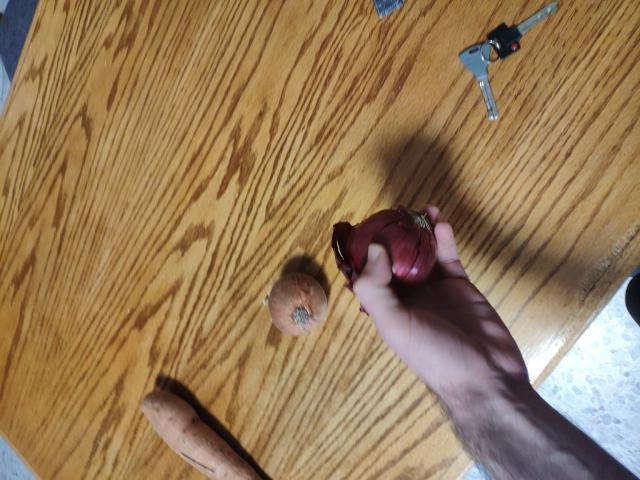onion: (261, 271, 352, 348)
